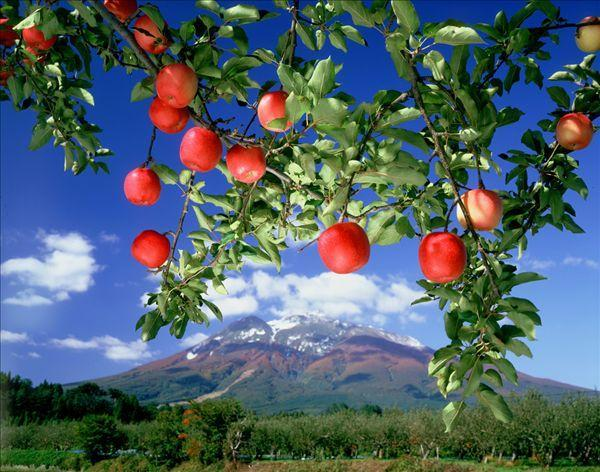apple: (416, 230, 468, 283), (319, 221, 370, 273), (455, 188, 503, 232), (179, 125, 223, 172), (156, 64, 197, 108), (225, 145, 266, 184), (123, 166, 162, 206), (133, 229, 172, 269), (132, 15, 171, 53), (257, 91, 291, 133), (555, 113, 592, 151), (149, 98, 187, 133), (22, 23, 59, 48), (575, 16, 600, 51), (103, 1, 137, 21)
